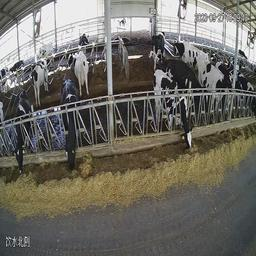cow: (149, 69, 193, 164), (51, 69, 83, 178), (6, 86, 35, 184), (197, 50, 233, 120), (30, 52, 52, 110), (66, 50, 90, 94), (171, 35, 195, 65), (150, 26, 166, 67), (36, 40, 55, 61), (77, 30, 90, 53)
